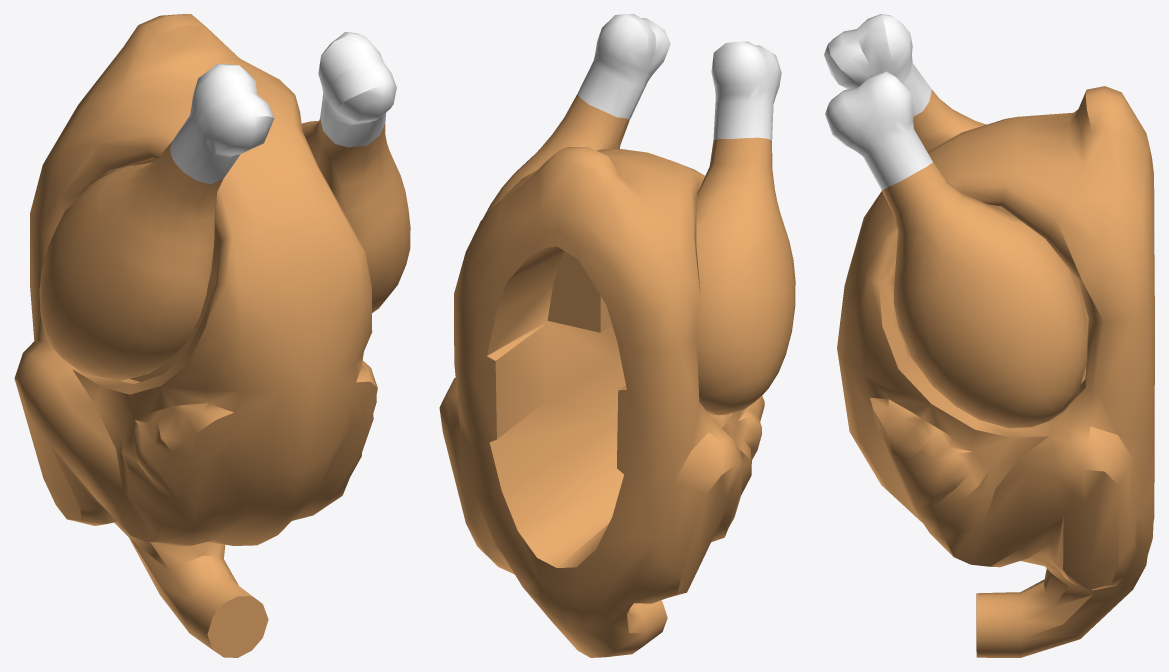
3 views of the same model, side by side, from view 1: azimuth 30°, elevation 25°; view 2: azimuth 150°, elevation 25°; view 3: azimuth 270°, elevation 25° (orthographic). The views are drawn at different scales.
Parts seen in each view (by area): view 1: SOLID-WHITE_012-material.100, SOLID-WHITE_012-material.001; view 2: SOLID-WHITE_012-material.100, SOLID-WHITE_012-material.001; view 3: SOLID-WHITE_012-material.100, SOLID-WHITE_012-material.001.
Boxes of the visible parts, x1,y1,x2,y2 form: SOLID-WHITE_012-material.100: (14,14,410,657); SOLID-WHITE_012-material.001: (170,32,396,184); SOLID-WHITE_012-material.100: (439,94,795,657); SOLID-WHITE_012-material.001: (577,14,781,140); SOLID-WHITE_012-material.100: (837,86,1154,657); SOLID-WHITE_012-material.001: (824,14,932,189).
Size of the model in its own units: 243 by 439 by 216.
